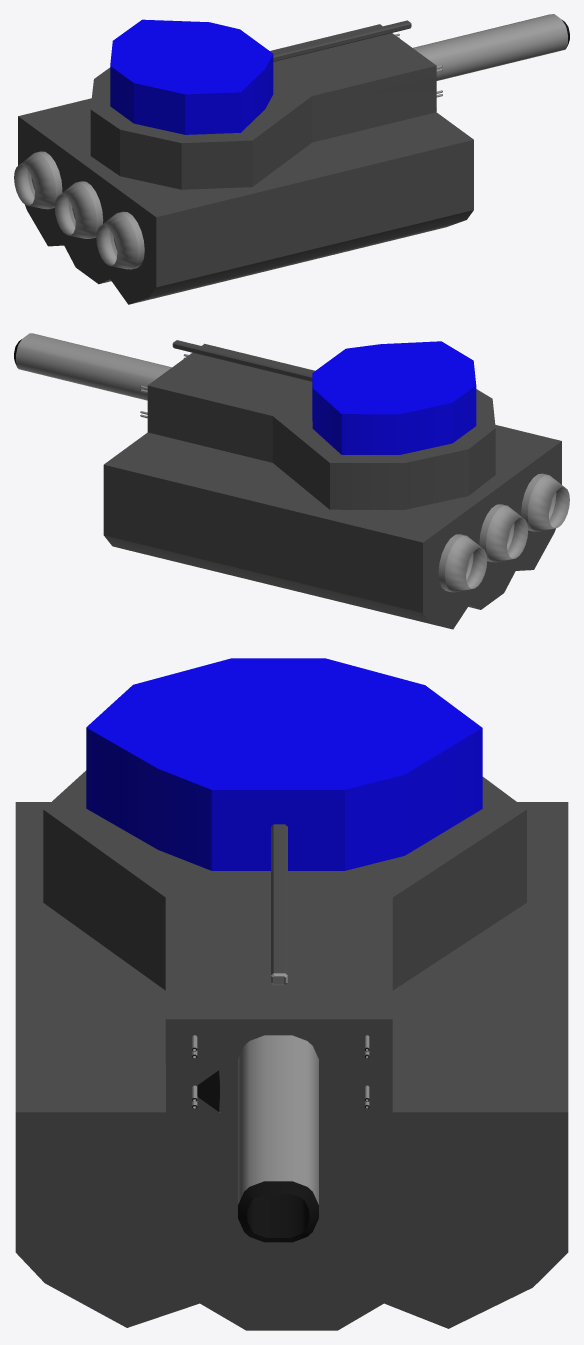
Rendered from Human_Tank.FBX.
3 views of the same model, one above another, from view 1: azimuth 30°, elevation 25°; view 2: azimuth 150°, elevation 25°; view 3: azimuth 270°, elevation 25° (orthographic). The views are drawn at different scales.
Parts seen in each view (by area): view 1: Cylinder002, Box001; view 2: Cylinder002, Box001; view 3: Box001, Cylinder002.
Part boxes in pixels (x1=…): Cylinder002: x1=14, y1=98, x2=473, y2=304; Box001: x1=90, y1=14, x2=569, y2=189; Cylinder002: x1=103, y1=425, x2=569, y2=629; Box001: x1=14, y1=333, x2=495, y2=509; Box001: x1=43, y1=658, x2=526, y2=1242; Cylinder002: x1=15, y1=802, x2=568, y2=1330.
Size of the model in its own units: 128 by 48.42 by 61.75.
